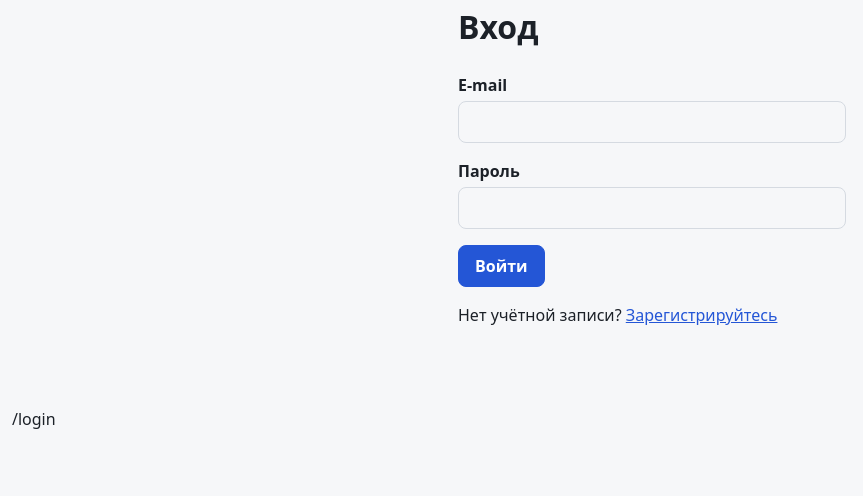
Test: вход › пустые поля: ошибки у полей, запрос не отправляется
Click the button "Войти".
click(501, 266)  # box [458,245,544,287]
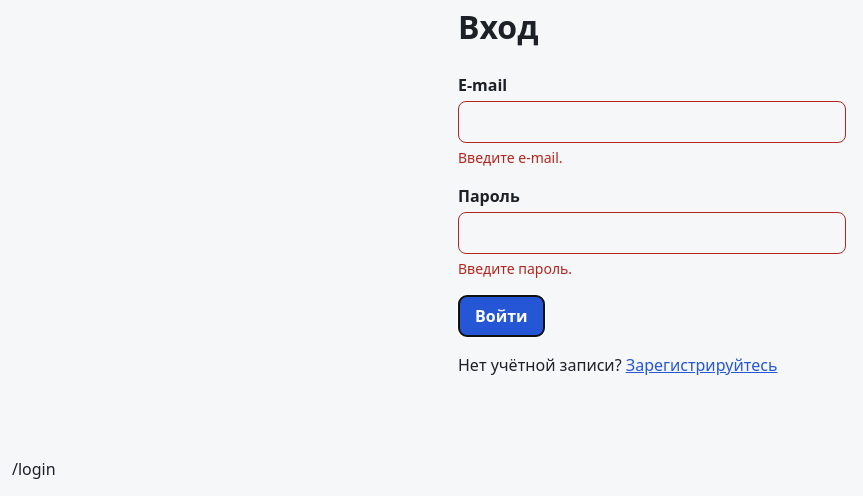
Result: the text "Введите e-mail." is shown at [458,148,563,167]
Result: the text "Введите пароль." is shown at [458,259,572,278]
